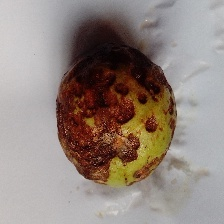guava: (2, 12, 199, 214)
